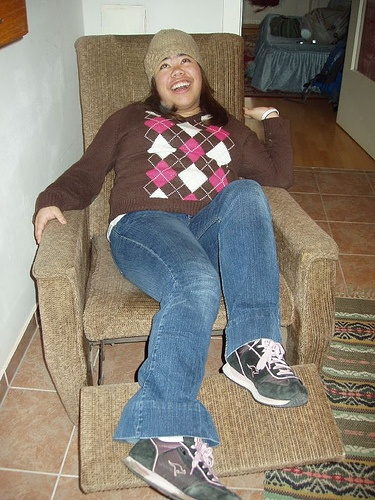head: (149, 34, 204, 111)
person: (36, 27, 313, 500)
